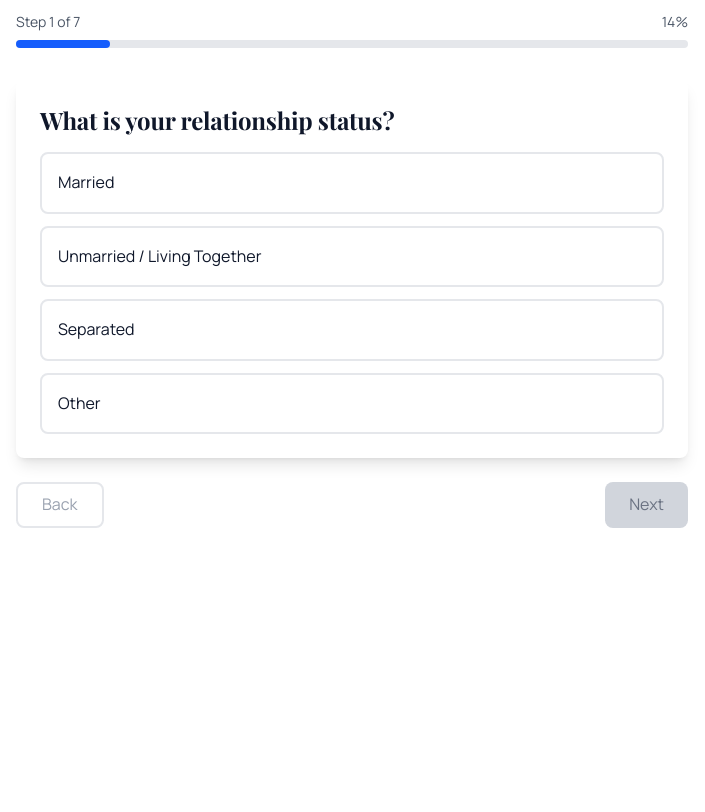
InterviewForm › should advance to next step when option is selected
The image size is (705, 812).
Click the button "Married": (86, 182) [40,152,664,214]
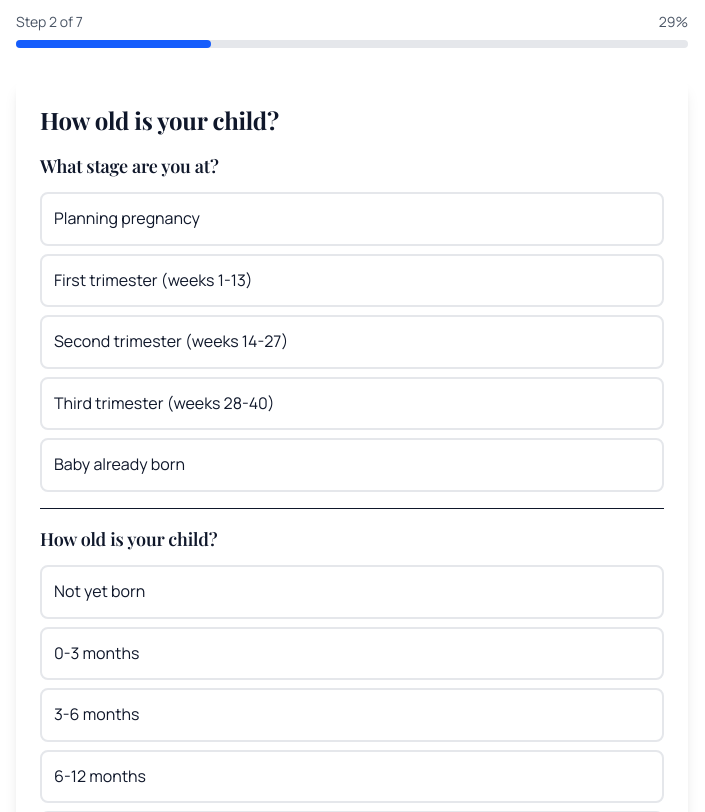
Expected: the heading "What is your relationship status?" is gone
